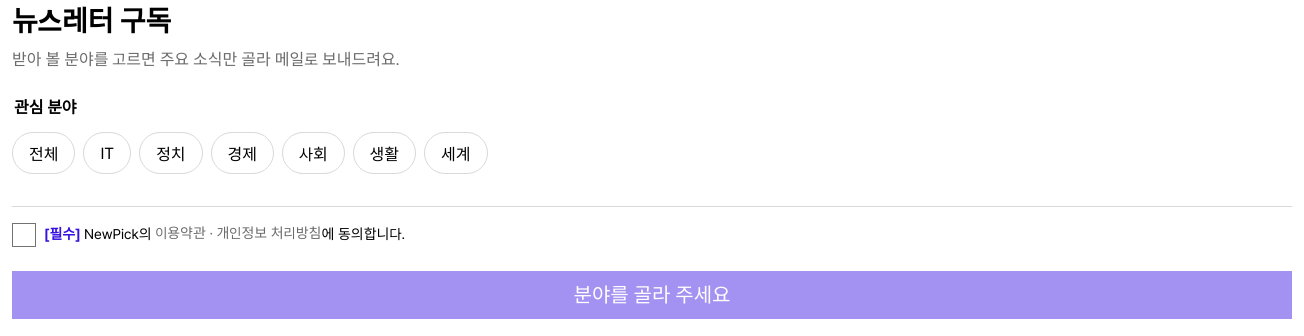
Test: SubscribeSheet (#52) › 분야를 고르고 약관에 동의해야 구독 버튼이 켜진다
Expected: the button "분야를 골라 주세요" is disabled, left=12, top=271, right=1292, bottom=319
Click the button "IT" at [107, 153], box left=84, top=132, right=131, bottom=174
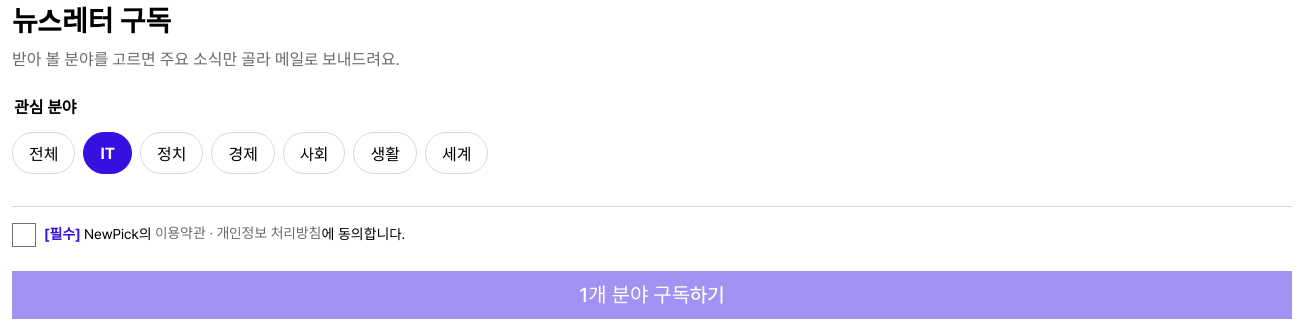
Expected: the button "1개 분야 구독하기" is disabled, left=12, top=271, right=1292, bottom=319
Result: the button "1개 분야 구독하기" is shown at left=12, top=271, right=1292, bottom=319
Click the checkbox at [24, 235], box left=12, top=223, right=36, bottom=247
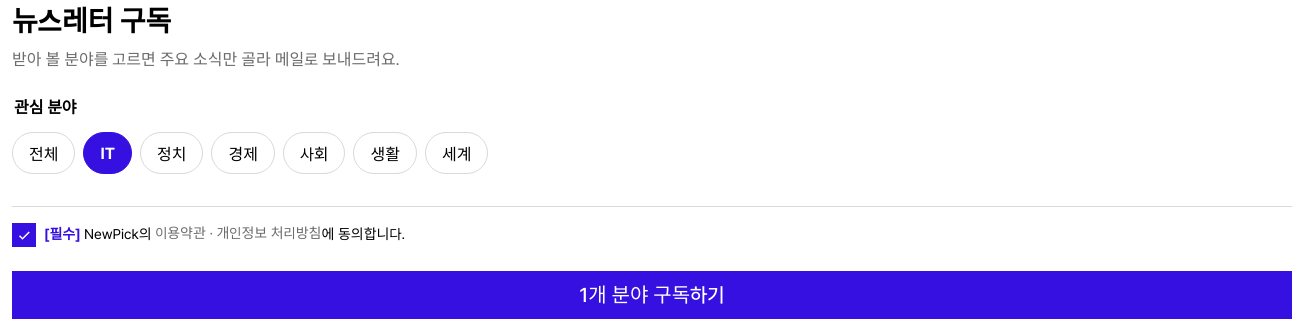
Result: the button "1개 분야 구독하기" is enabled at left=12, top=271, right=1292, bottom=319
